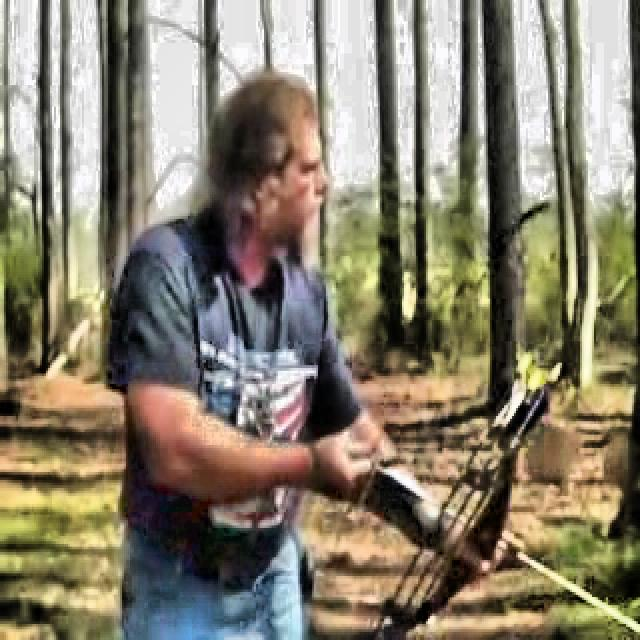I: (77, 65, 534, 621)
